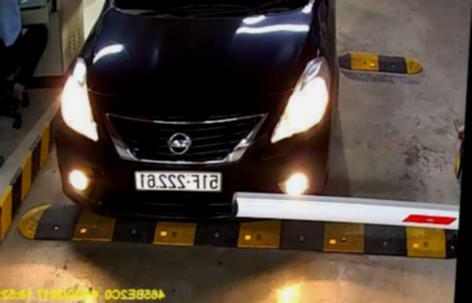License_Plate: (133, 164, 227, 196)
